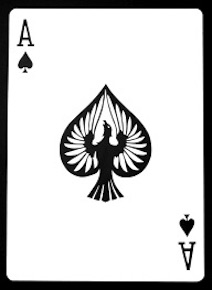AceOfSpades: (3, 4, 208, 287)
